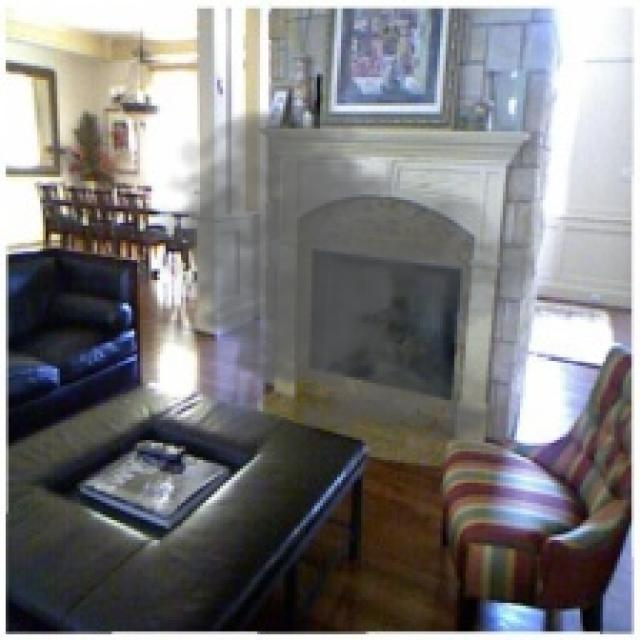smoke: (146, 103, 534, 454)
